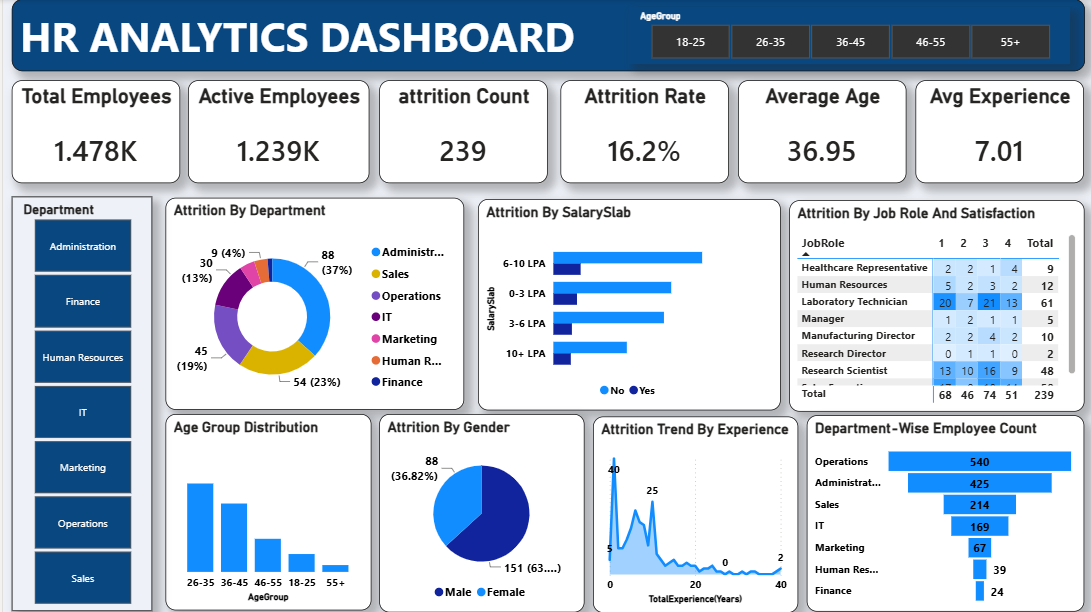

What the dashboard file says about the page in this screenshot:
{"tool":"powerbi","page":{"name":"Page 1","canvas":[1280,720],"ordinal":0},"visuals":[{"type":"textbox","box":[10,0,1259,85],"z":0},{"type":"cardVisual","title":"Total Employees","fields":{"Data":["CountNonNull(HR_Analytics-4.EmpID)"]},"box":[9.6,94.7,197.6,120.8],"z":1000},{"type":"cardVisual","title":"Active Employees","fields":{"Data":["CountNonNull(HR_Analytics-4.EmployeeCount)"]},"box":[216.8,94.7,212.7,120.8],"z":2000},{"type":"cardVisual","title":"attrition Count","fields":{"Data":["Sum(HR_Analytics-4.attritionCount)"]},"box":[441.9,94.7,197.6,120.8],"z":3000},{"type":"cardVisual","title":"Attrition Rate","fields":{"Data":["HR_Analytics-4.Attrition Rate"]},"box":[654.5,94.7,197.6,120.8],"z":4000},{"type":"cardVisual","title":"Average Age","fields":{"Data":["Avg(HR_Analytics-4.Age)"]},"box":[861.8,94.7,197.6,120.8],"z":5000},{"type":"cardVisual","title":"Avg Experience","fields":{"Data":["Avg(HR_Analytics-4.YearsatCompany)"]},"box":[1070.3,94.7,197.6,120.8],"z":6000},{"type":"donutChart","title":"Attrition By Department","fields":{"Category":["HR_Analytics-4.Department"],"Y":["Sum(HR_Analytics-4.attritionCount)"]},"box":[190.7,233.2,350,249],"z":7000},{"type":"clusteredBarChart","title":"Attrition By SalarySlab","fields":{"Category":["HR_Analytics-4.SalarySlab"],"Series":["HR_Analytics-4.Attrition"],"Y":["CountNonNull(HR_Analytics-4.EmpID)"]},"box":[557.3,234.6,354.9,247.8],"z":8000},{"type":"pivotTable","title":"Attrition By Job Role And Satisfaction","fields":{"Columns":["HR_Analytics-4.JobSatisfaction"],"Rows":["HR_Analytics-4.JobRole"],"Values":["Sum(HR_Analytics-4.attritionCount)"]},"box":[922.5,236.1,346.1,247.8],"z":9000},{"type":"columnChart","title":"Age Group Distribution","fields":{"Category":["HR_Analytics-4.AgeGroup"],"Y":["Sum(HR_Analytics-4.EmployeeCount)"]},"box":[190.7,486.9,242,230.2],"z":10000},{"type":"pieChart","title":"Attrition By Gender","fields":{"Category":["HR_Analytics-4.Gender"],"Y":["Sum(HR_Analytics-4.attritionCount)"]},"box":[441.4,486.9,240.5,233.2],"z":11000},{"type":"areaChart","title":"Attrition Trend By Experience","fields":{"Category":["HR_Analytics-4.TotalExperience(Years)"],"Y":["Sum(HR_Analytics-4.attritionCount)"]},"box":[692.2,489.8,240.5,230.2],"z":12000},{"type":"funnel","title":"Department-Wise Employee Count","fields":{"Category":["HR_Analytics-4.Department"],"Y":["CountNonNull(HR_Analytics-4.EmpID)"]},"box":[943,488.4,325.6,230.2],"z":13000},{"type":"slicer","fields":{"Values":["HR_Analytics-4.Department"]},"box":[10.3,231.7,165,486],"z":13001},{"type":"slicer","fields":{"Values":["HR_Analytics-4.AgeGroup"]},"box":[734.7,8.8,517.7,67.5],"z":13002}]}

Visuals, with their boxes in screenshot pixels (x1, y1, x2, y2), scaled from the page's 1280x720 canvas onto the 1091x612 screenshot:
textbox: l=9, t=0, r=1082, b=72
"Total Employees" cardVisual: l=8, t=80, r=177, b=183
"Active Employees" cardVisual: l=185, t=80, r=366, b=183
"attrition Count" cardVisual: l=377, t=80, r=545, b=183
"Attrition Rate" cardVisual: l=558, t=80, r=726, b=183
"Average Age" cardVisual: l=735, t=80, r=903, b=183
"Avg Experience" cardVisual: l=912, t=80, r=1081, b=183
"Attrition By Department" donutChart: l=163, t=198, r=461, b=410
"Attrition By SalarySlab" clusteredBarChart: l=475, t=199, r=778, b=410
"Attrition By Job Role And Satisfaction" pivotTable: l=786, t=201, r=1081, b=411
"Age Group Distribution" columnChart: l=163, t=414, r=369, b=610
"Attrition By Gender" pieChart: l=376, t=414, r=581, b=611
"Attrition Trend By Experience" areaChart: l=590, t=416, r=795, b=611
"Department-Wise Employee Count" funnel: l=804, t=415, r=1081, b=611
slicer - HR_Analytics-4.Department: l=9, t=197, r=149, b=610
slicer - HR_Analytics-4.AgeGroup: l=626, t=7, r=1067, b=65
